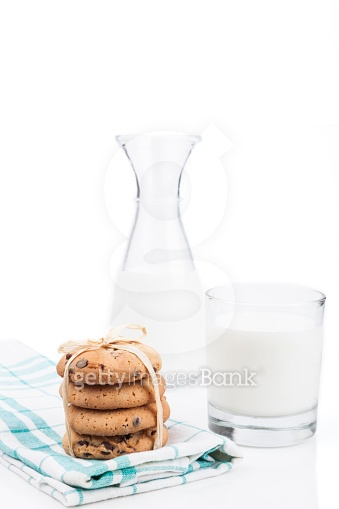glass of milk: (114, 126, 211, 391), (207, 274, 325, 448)
